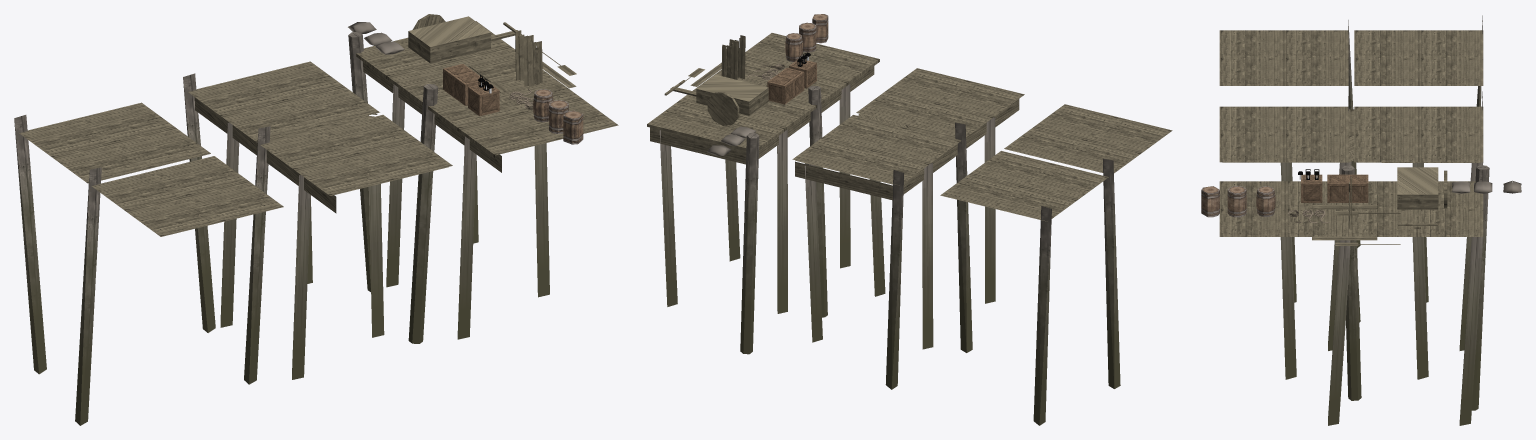
Rendered from Deck.fbx.
The picture shows the model from 3 angles, left to right: view 1: azimuth 30°, elevation 25°; view 2: azimuth 150°, elevation 25°; view 3: azimuth 270°, elevation 25°; orthographic projection. The views are drawn at different scales.
Parts seen in each view (by area): view 1: Deck_LOD0.002, Deck_LOD0.003, Deck_LOD0, Cart.LOD.000, Cart.LOD.003, Box_Double, Table_Multiple_LOD0.002, Box_Single, Barrel_LOD0.003; view 2: Deck_LOD0.002, Deck_LOD0, Deck_LOD0.003, Box_Double, Cart.LOD.003, Cart.LOD.000, Wheel.LOD.000, Table_Multiple_LOD0; view 3: Deck_LOD0, Deck_LOD0.002, Deck_LOD0.003, Box_Double, Cart.LOD.003, Cart.LOD.000, Box_Single, Barrel_LOD0.002, Barrel_LOD0.003, Barrel_LOD0, Table_Single_LOD0.002, Table_Single_LOD0.
Boxes of the visible parts, bbox=[...] form: Deck_LOD0.002: bbox=[183, 61, 452, 384]; Deck_LOD0.003: bbox=[14, 102, 283, 425]; Deck_LOD0: bbox=[348, 21, 618, 343]; Cart.LOD.000: bbox=[408, 22, 522, 63]; Cart.LOD.003: bbox=[408, 16, 490, 46]; Box_Double: bbox=[443, 64, 485, 105]; Table_Multiple_LOD0.002: bbox=[523, 36, 542, 86]; Box_Single: bbox=[468, 83, 499, 116]; Barrel_LOD0.003: bbox=[563, 110, 583, 144]; Deck_LOD0.002: bbox=[792, 68, 1024, 389]; Deck_LOD0: bbox=[647, 33, 879, 354]; Deck_LOD0.003: bbox=[940, 104, 1172, 425]; Box_Double: bbox=[767, 67, 804, 104]; Cart.LOD.003: bbox=[696, 74, 768, 101]; Cart.LOD.000: bbox=[664, 80, 768, 115]; Wheel.LOD.000: bbox=[707, 92, 739, 125]; Table_Multiple_LOD0: bbox=[721, 40, 738, 79]; Deck_LOD0: bbox=[1219, 165, 1489, 425]; Deck_LOD0.002: bbox=[1219, 91, 1483, 350]; Deck_LOD0.003: bbox=[1219, 15, 1483, 247]; Box_Double: bbox=[1327, 174, 1368, 202]; Cart.LOD.003: bbox=[1397, 167, 1438, 194]; Cart.LOD.000: bbox=[1397, 194, 1438, 228]; Box_Single: bbox=[1301, 174, 1322, 202]; Barrel_LOD0.002: bbox=[1227, 186, 1246, 217]; Barrel_LOD0.003: bbox=[1201, 186, 1219, 217]; Barrel_LOD0: bbox=[1256, 186, 1275, 216]; Table_Single_LOD0.002: bbox=[1312, 236, 1377, 240]; Table_Single_LOD0: bbox=[1312, 205, 1377, 209].
Bounding box in the file's own units: 7935 × 4462 × 4871.
